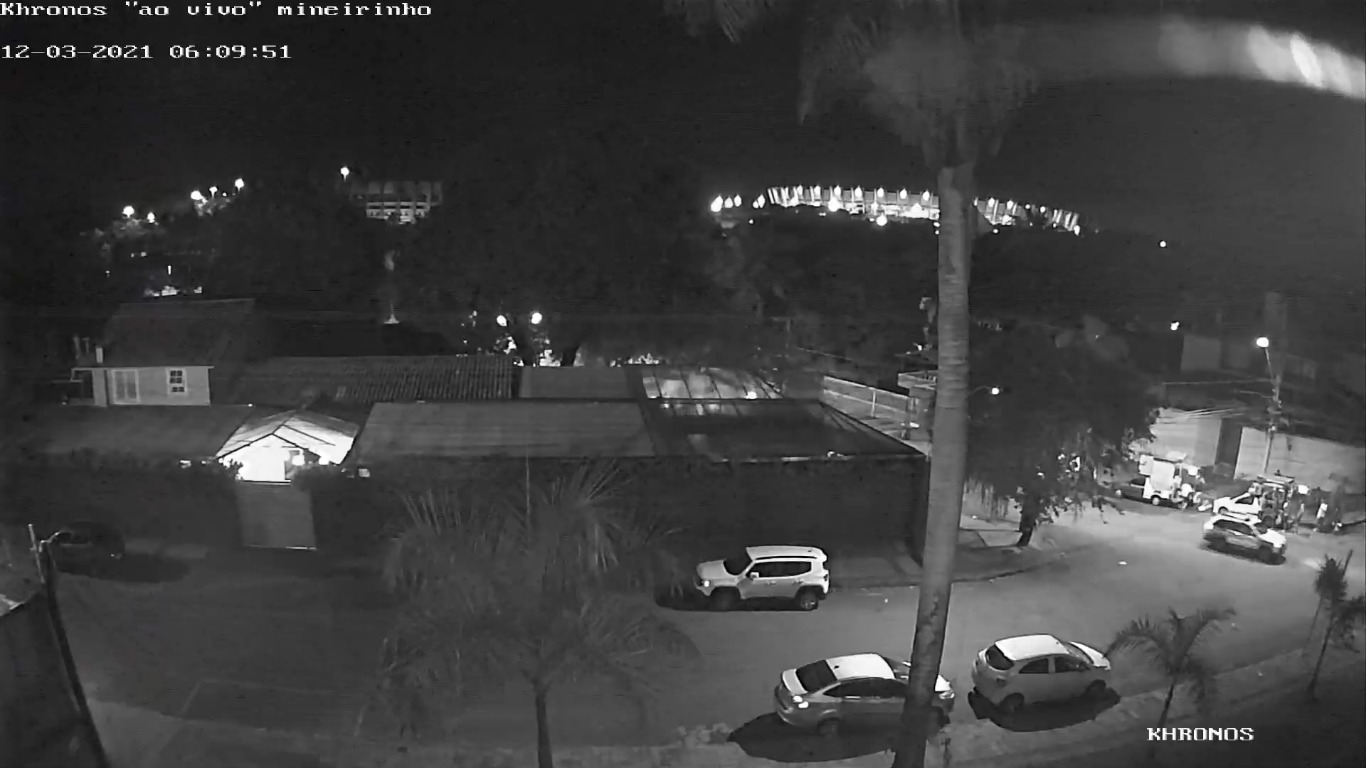car: (771, 651, 956, 736), (970, 631, 1112, 717), (694, 543, 831, 612)
